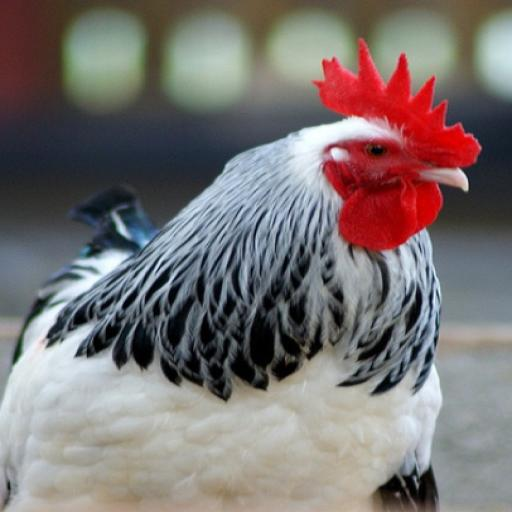healthy: (294, 37, 492, 253)
